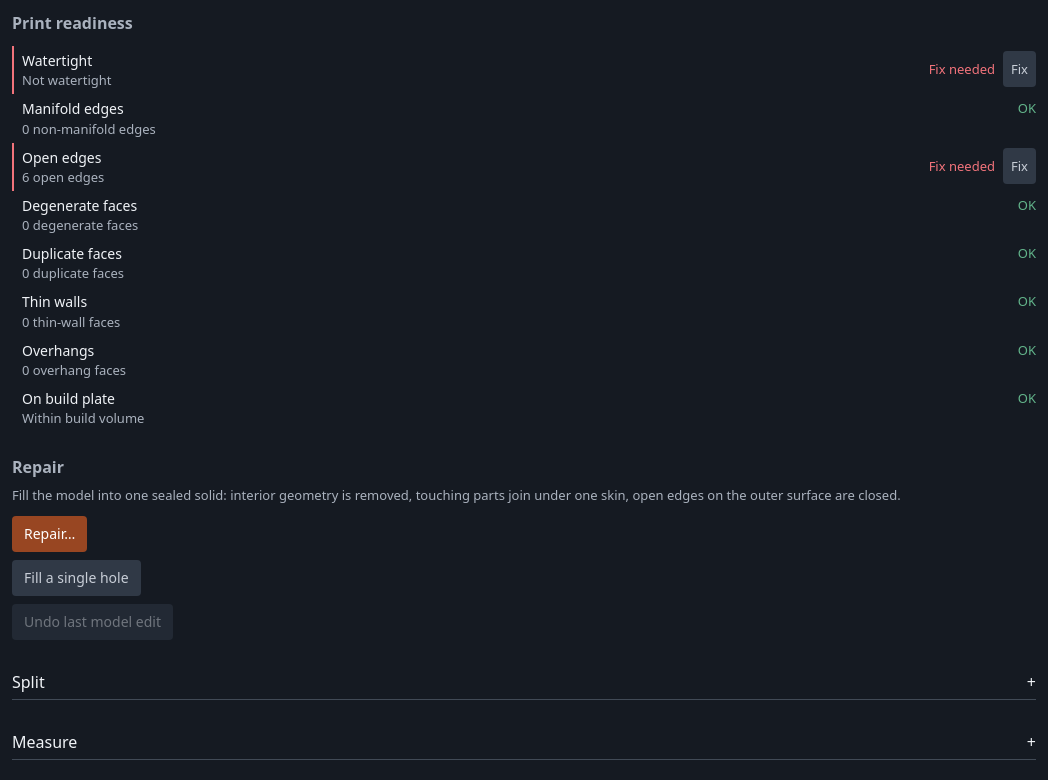
PreparePanel › renders the readiness card and repair section when a model is loaded
Check: the button "Repair…" is enabled, box [12,516,87,552]
Check: the button "Split by shell" is not shown
Click the button "Split +". click: x=28, y=682
box: [12,664,1036,700]
(page scrolled)
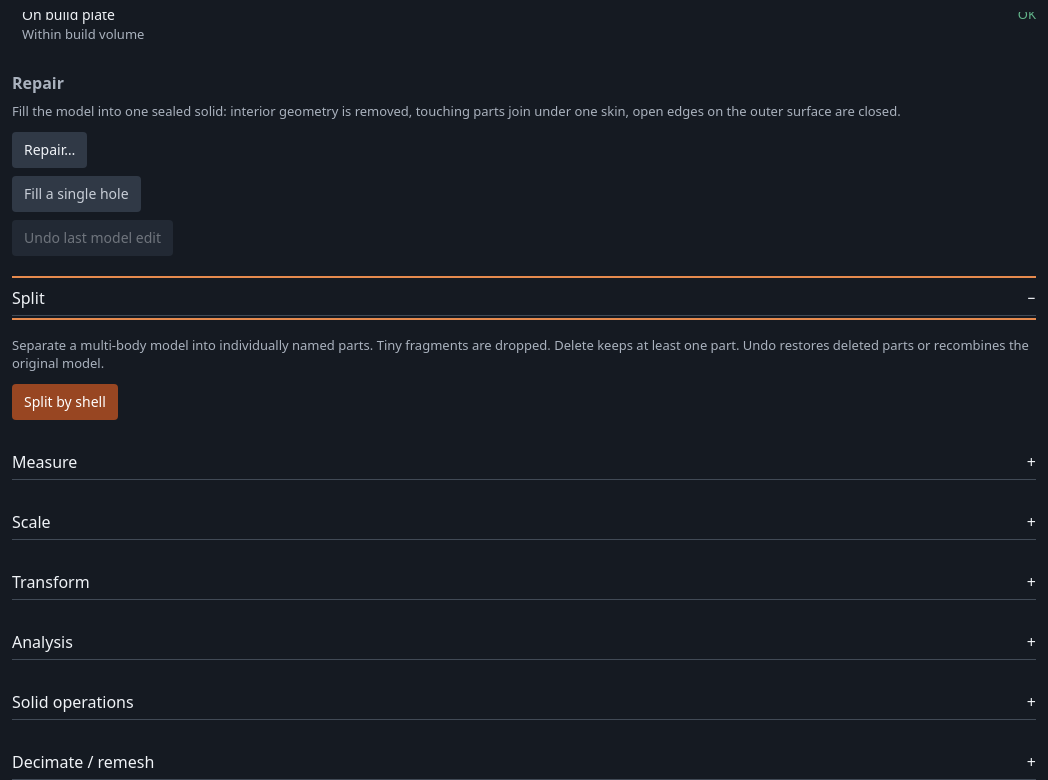
Check: the button "Split by shell" is shown, box [12,384,118,420]
